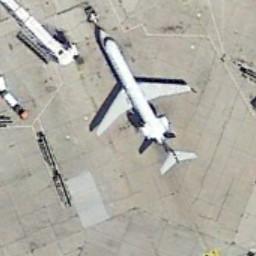Airplane: (76, 15, 202, 175)
